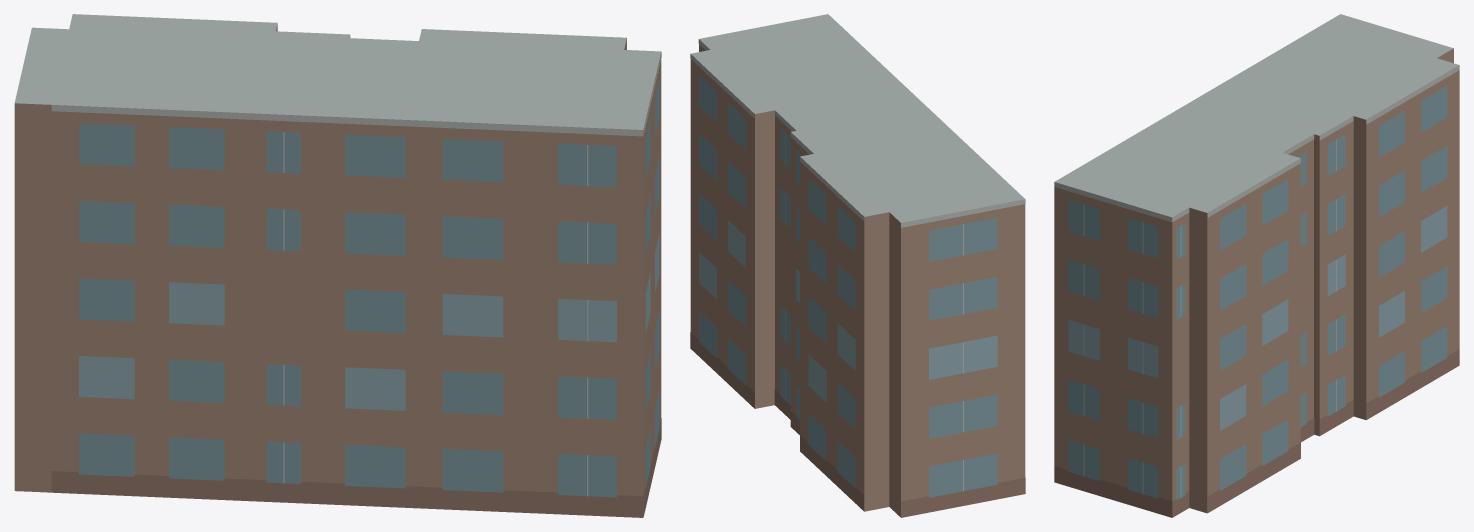
File: survey-upis-32613522.glb
3 renders of one model, left to right at view 1: azimuth 30°, elevation 25°; view 2: azimuth 150°, elevation 25°; view 3: azimuth 270°, elevation 25°, orthographic. The views are drawn at different scales.
Parts seen in each view (by area): view 1: survey-upis-32613522.tmp; view 2: survey-upis-32613522.tmp; view 3: survey-upis-32613522.tmp.
Boxes of the visible parts, x1,y1,x2,y2 form: survey-upis-32613522.tmp: (14,14,661,517); survey-upis-32613522.tmp: (690,14,1025,517); survey-upis-32613522.tmp: (1054,14,1459,517).
Size of the model in its own units: 21.58 by 14.85 by 18.17.
